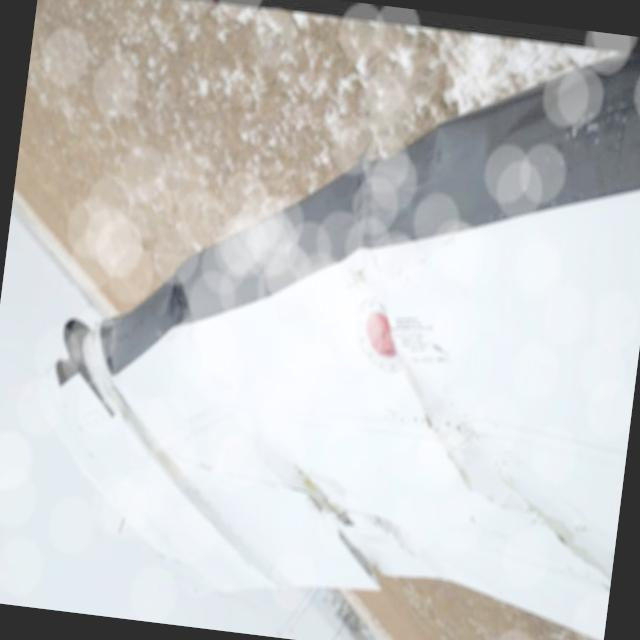crack: (270, 458, 405, 594)
